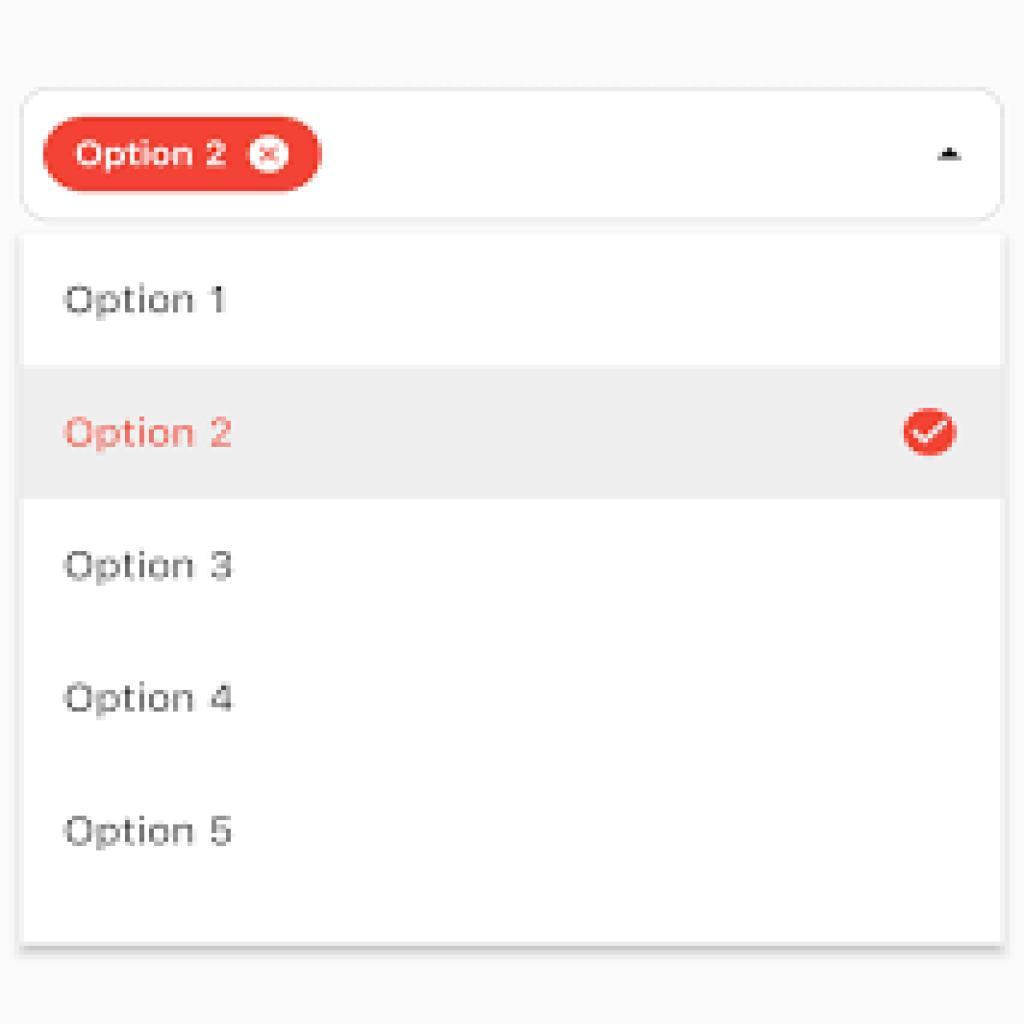dropdown: (21, 90, 1006, 226)
